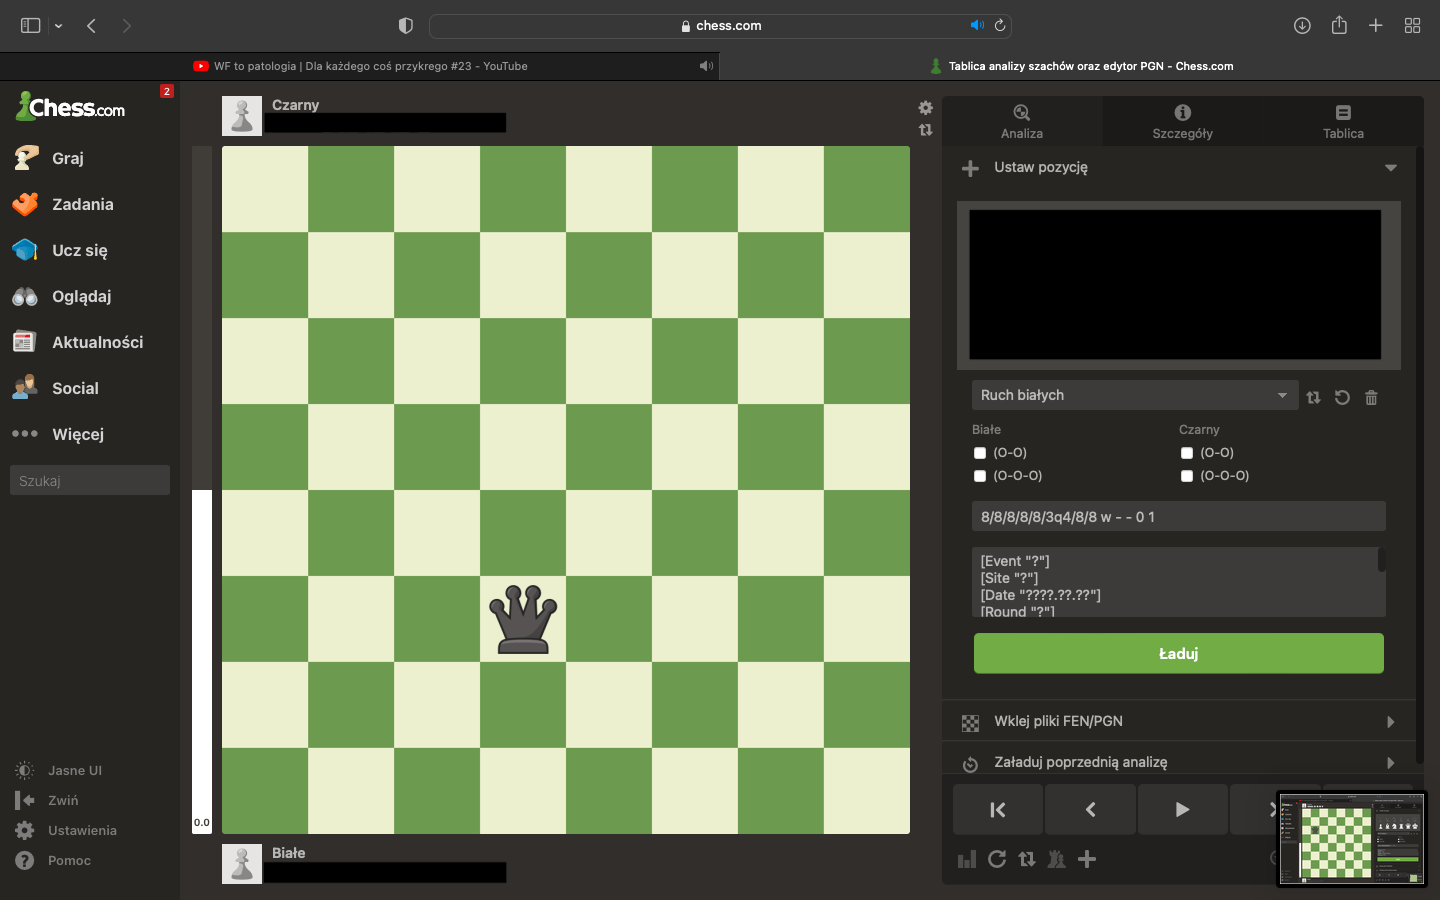black_queen: (488, 584, 558, 655)
